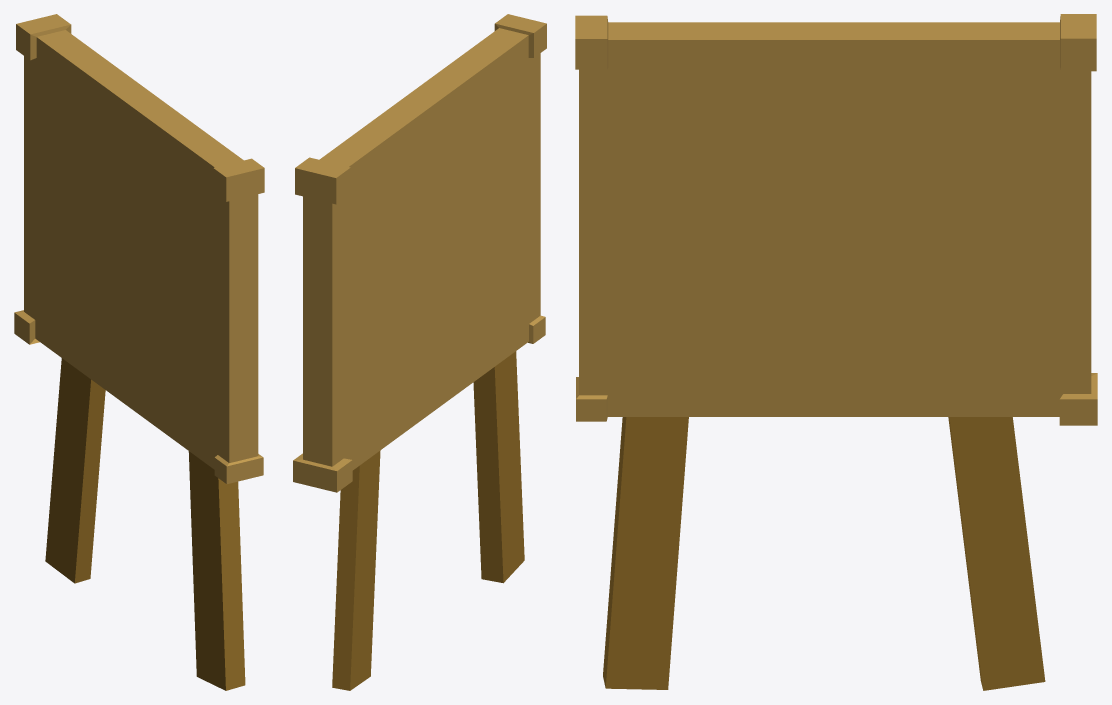
The model's file is billboard.fbx.
3 views of the same model, side by side, from view 1: azimuth 30°, elevation 25°; view 2: azimuth 150°, elevation 25°; view 3: azimuth 270°, elevation 25° (orthographic). The views are drawn at different scales.
Visible parts, largest first — view 1: Cube.001; view 2: Cube.001; view 3: Cube.001.
Boxes of the visible parts, x1=… form: Cube.001: x1=14, y1=14, x2=264, y2=690; Cube.001: x1=293, y1=14, x2=546, y2=690; Cube.001: x1=575, y1=14, x2=1097, y2=690.
Size of the model in its own units: 14.16 by 165 by 118.
